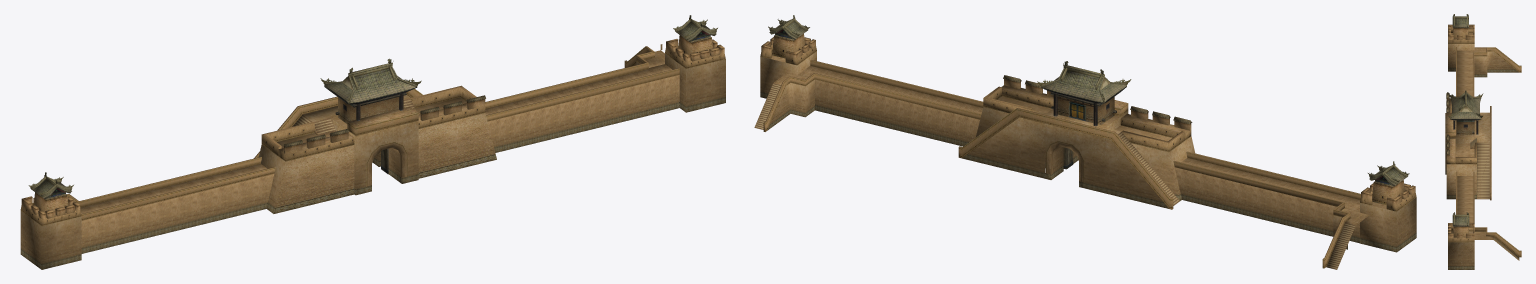
Rendered from w_cd_eastwa_s.glb.
3 renders of one model, left to right at view 1: azimuth 30°, elevation 25°; view 2: azimuth 150°, elevation 25°; view 3: azimuth 270°, elevation 25°, orthographic. The views are drawn at different scales.
Visible parts, largest first — view 1: w_cd_eastwa_s_wall01, w_cd_eastwa_s_wall03, w_cd_eastwa_s_roof, w_cd_eastwa_s_wall02; view 2: w_cd_eastwa_s_wall01, w_cd_eastwa_s_wall03, w_cd_eastwa_s_roof, w_cd_eastwa_s_wall02, w_cd_eastwa_s_alpha; view 3: w_cd_eastwa_s_wall01, w_cd_eastwa_s_wall03, w_cd_eastwa_s_roof, w_cd_eastwa_s_wall02, w_cd_eastwa_s_alpha.
Part boxes in pixels (x1,y1,x2,y2): w_cd_eastwa_s_wall01: [20, 50, 725, 269]; w_cd_eastwa_s_wall03: [20, 35, 725, 225]; w_cd_eastwa_s_roof: [30, 17, 716, 199]; w_cd_eastwa_s_wall02: [338, 93, 403, 123]; w_cd_eastwa_s_wall01: [760, 51, 1416, 252]; w_cd_eastwa_s_wall03: [754, 33, 1416, 269]; w_cd_eastwa_s_roof: [769, 17, 1408, 186]; w_cd_eastwa_s_wall02: [1053, 93, 1114, 126]; w_cd_eastwa_s_alpha: [768, 15, 1409, 182]; w_cd_eastwa_s_wall01: [1445, 33, 1518, 269]; w_cd_eastwa_s_wall03: [1445, 24, 1521, 260]; w_cd_eastwa_s_roof: [1450, 16, 1481, 226]; w_cd_eastwa_s_wall02: [1453, 120, 1478, 135]; w_cd_eastwa_s_alpha: [1448, 14, 1483, 223].
Bounding box in the file's own units: 194 × 30.52 × 29.79.
6 materials, 6 textured.
